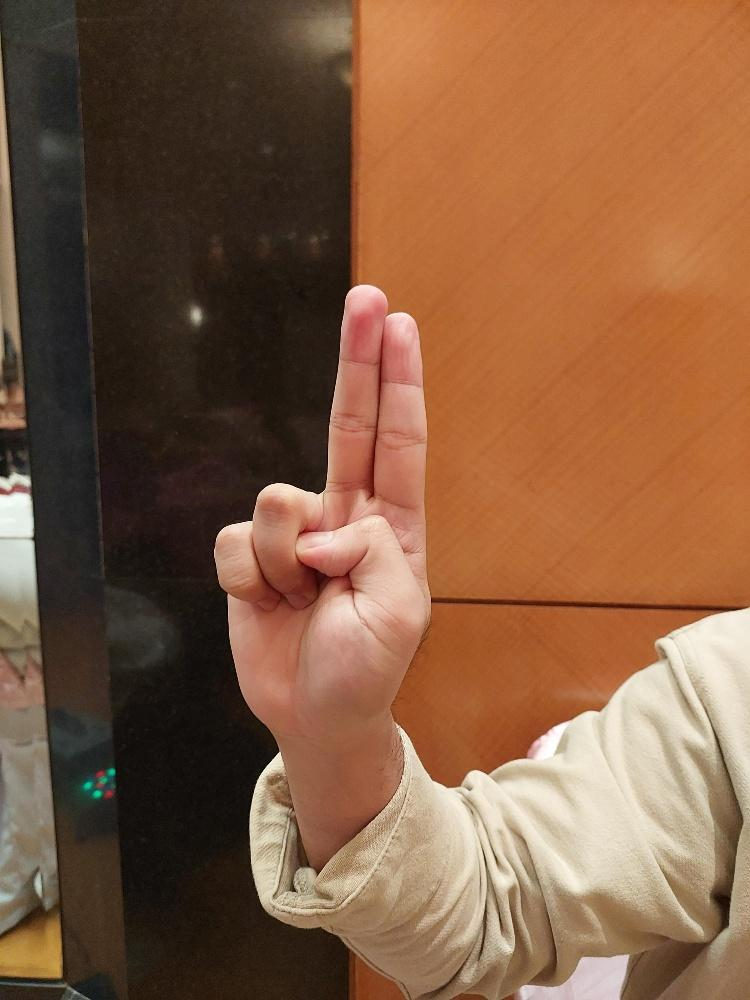u: (210, 281, 435, 735)
